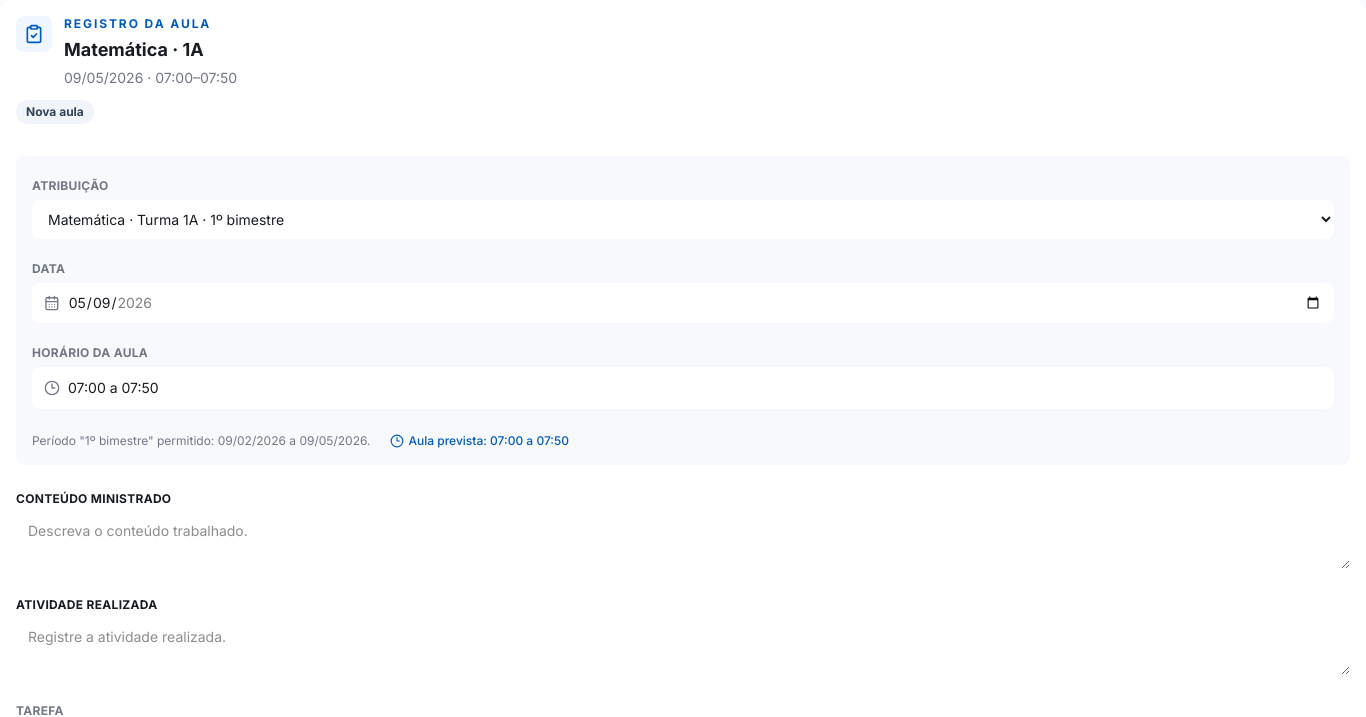
TeacherAttendancePanel › limpa o dirty state ao restaurar o baseline do conteúdo
Step 1. Type "Conteúdo temporário" into the text box labelled "Conteúdo ministrado" → (683, 541), box [16,513,1350,569]
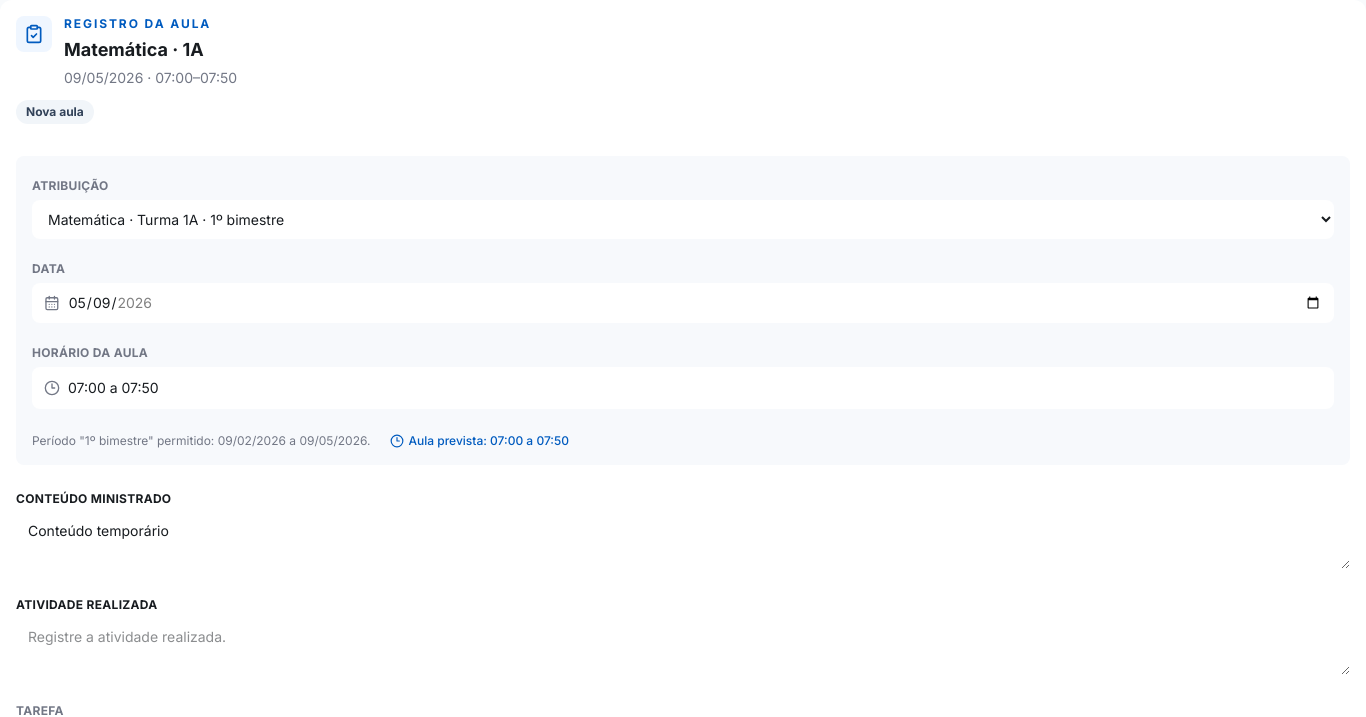
Step 2. Clear the text box labelled "Conteúdo ministrado" → (683, 541), box [16,513,1350,569]
(page scrolled)
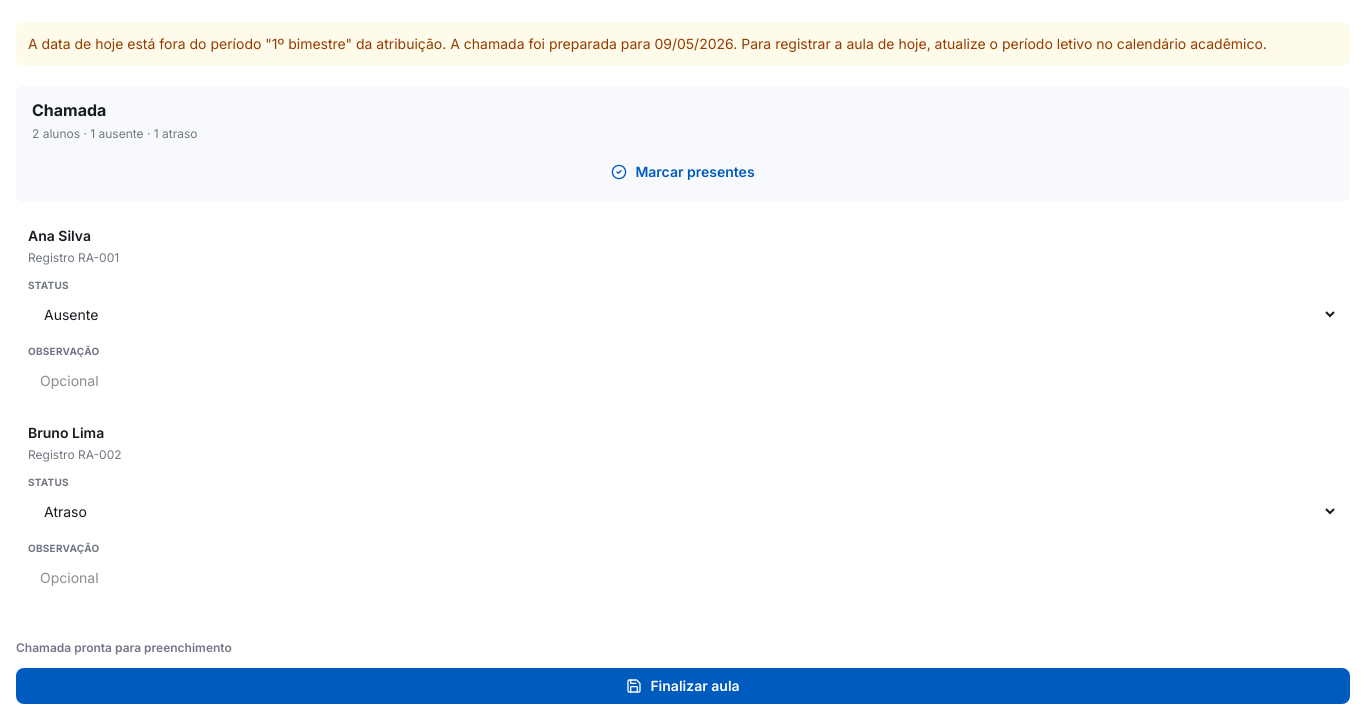
Expected: the text "Chamada pronta para preenchimento" is shown, [16,640,232,655]
